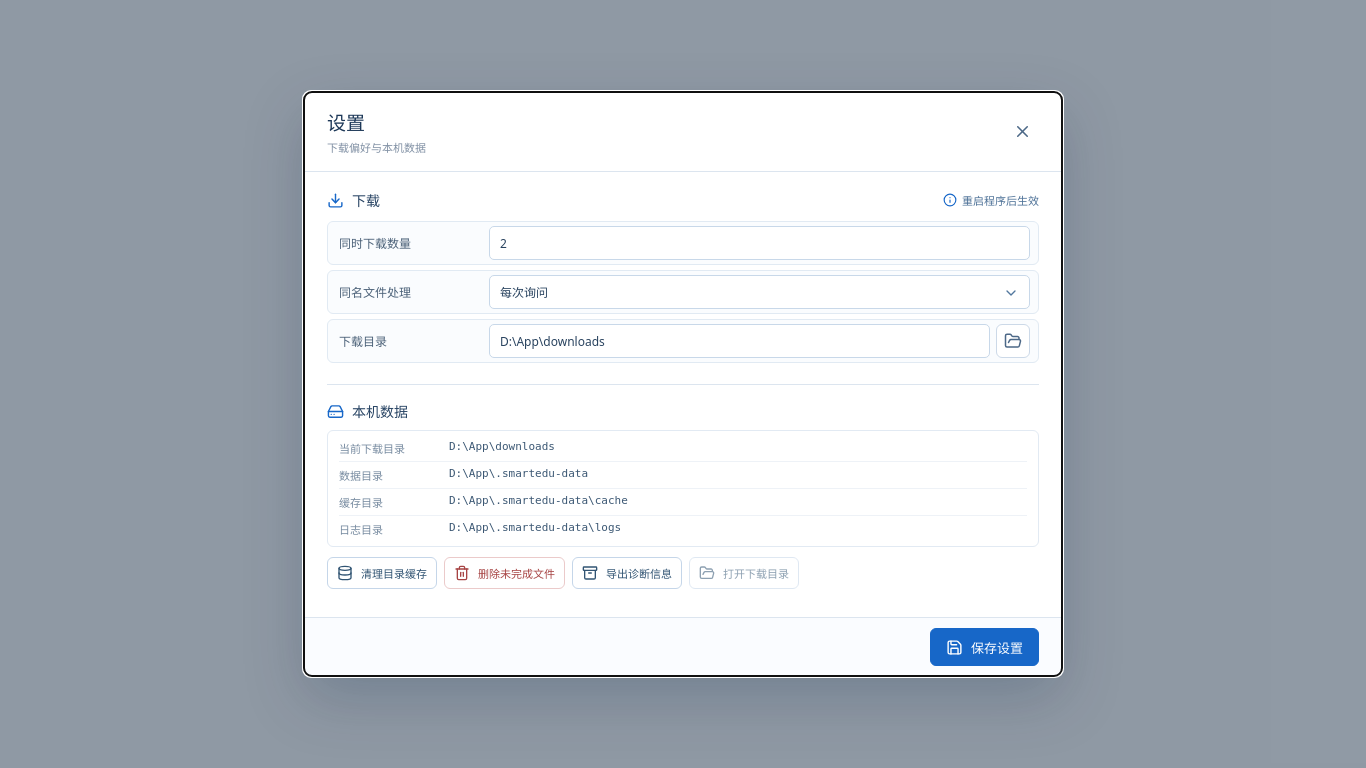
it: keeps the active download path visible and explains that saved download settings need a restart
Step 1. Click the button named "选择下载目录" → (1013, 341), box [996,324,1030,358]
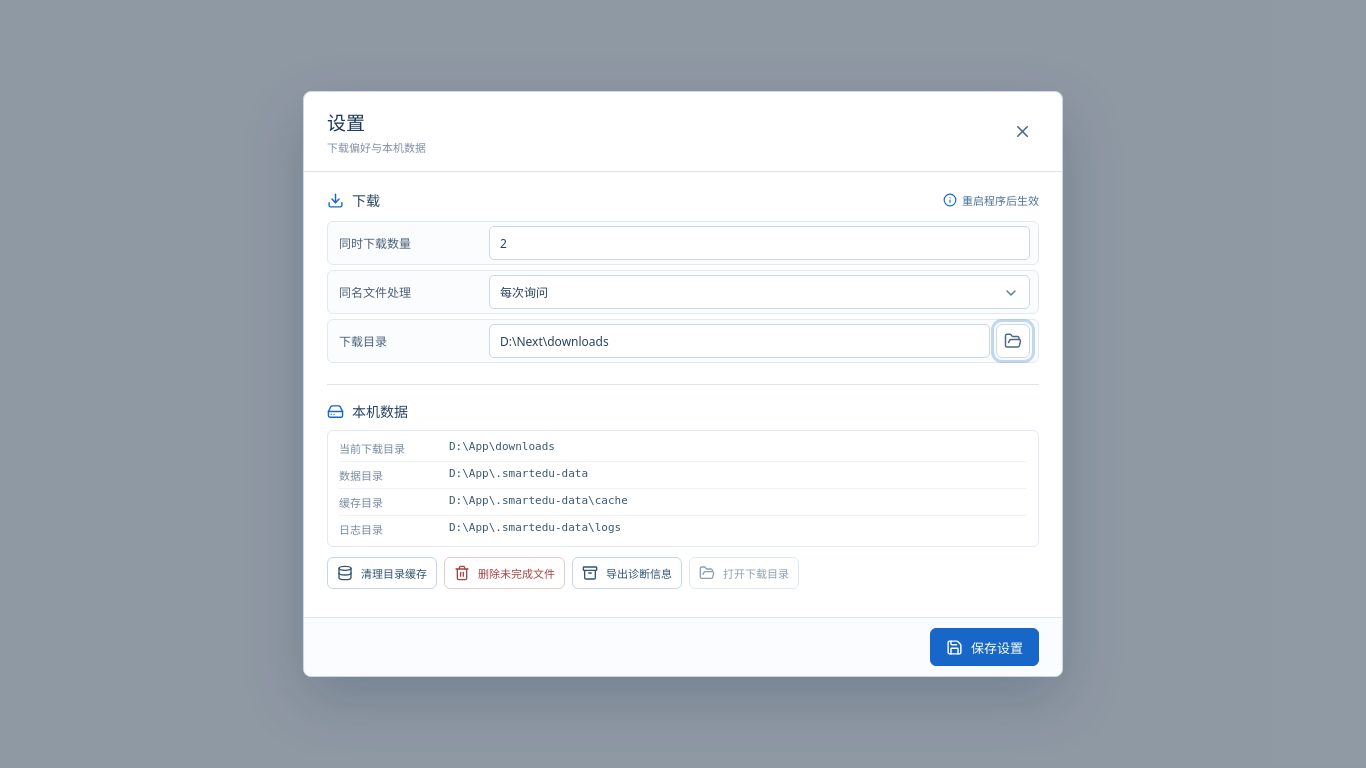
Step 2. Replace the text in the number field labelled "同时下载数量" with "4" → (760, 243), box [489,226,1030,260]
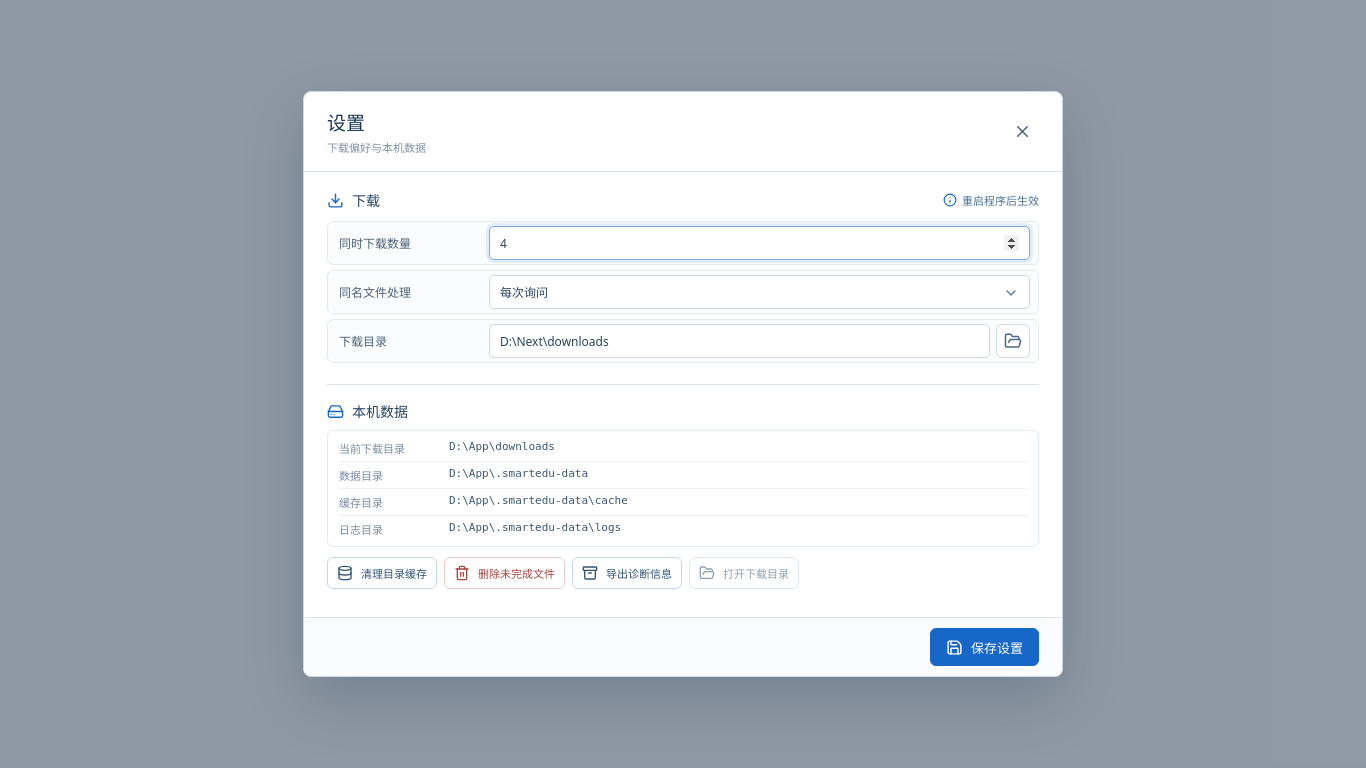
Step 3. Click the button "保存设置" → (984, 647), box [930,628,1039,666]
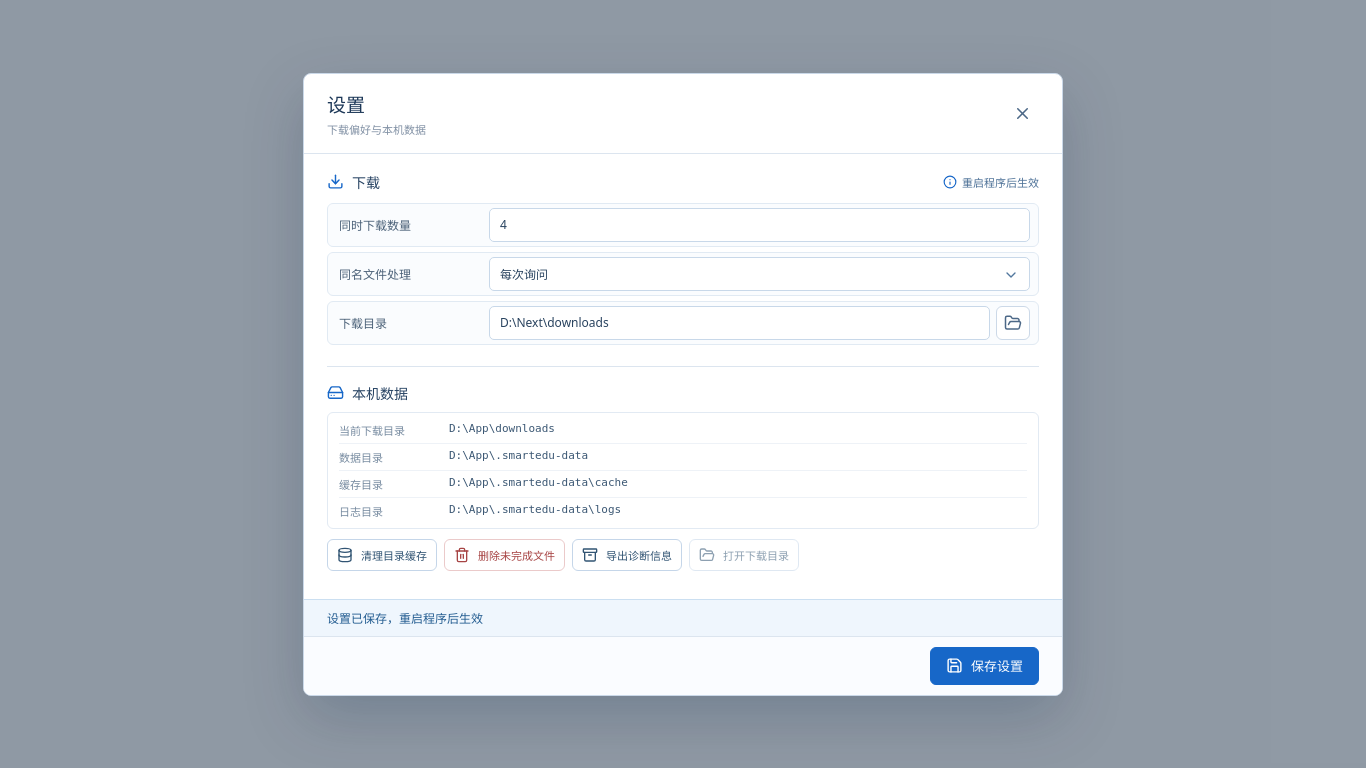
Expected: the text "D:\\App\\downloads" is shown, [449,422,555,434]
Expected: the message shows "重启程序后生效", [327,610,483,626]
